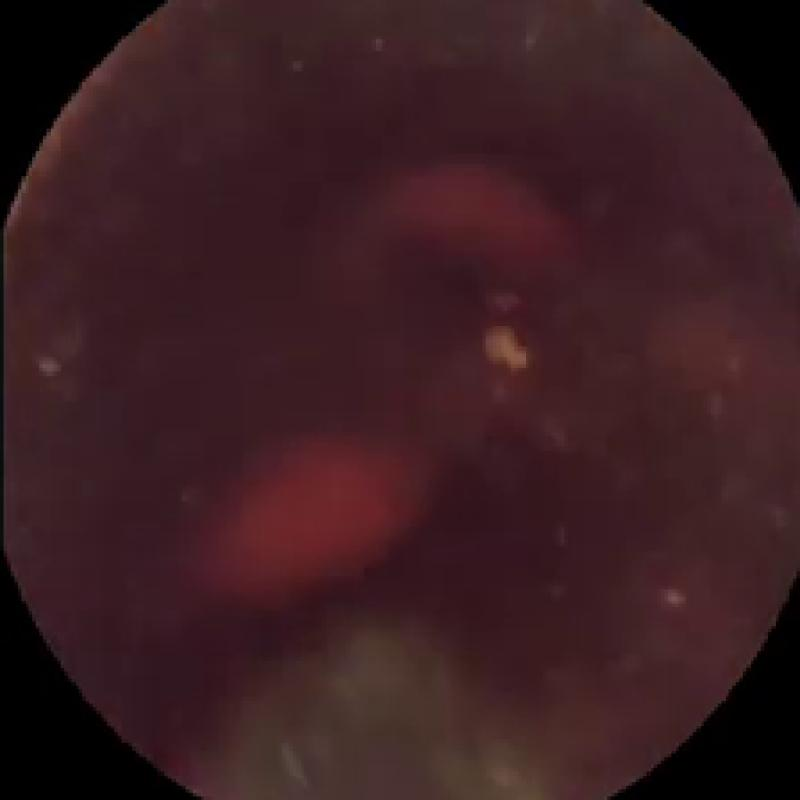bleeding: (193, 423, 419, 603), (382, 164, 568, 261)
